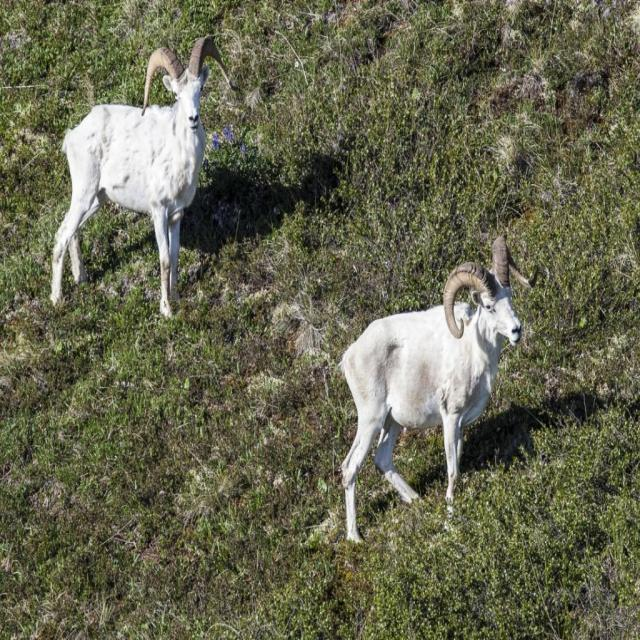Goat: (336, 233, 537, 545), (49, 35, 238, 319)
